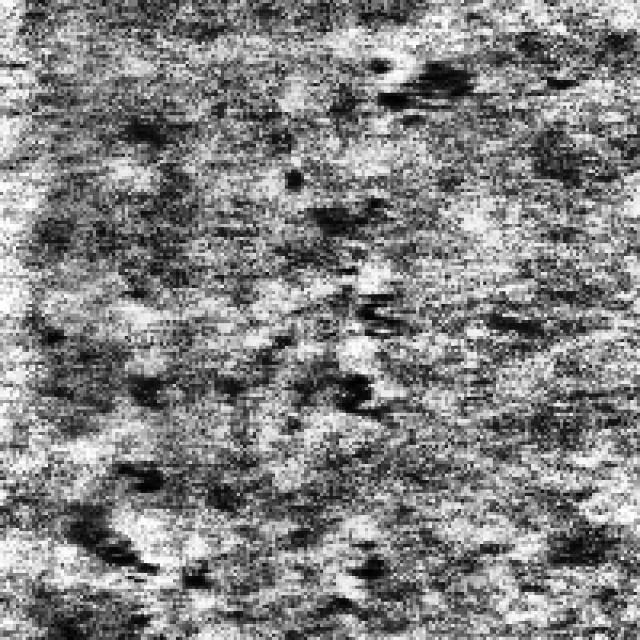Crazing: (278, 173, 406, 429), (51, 444, 208, 602), (358, 45, 499, 125)
